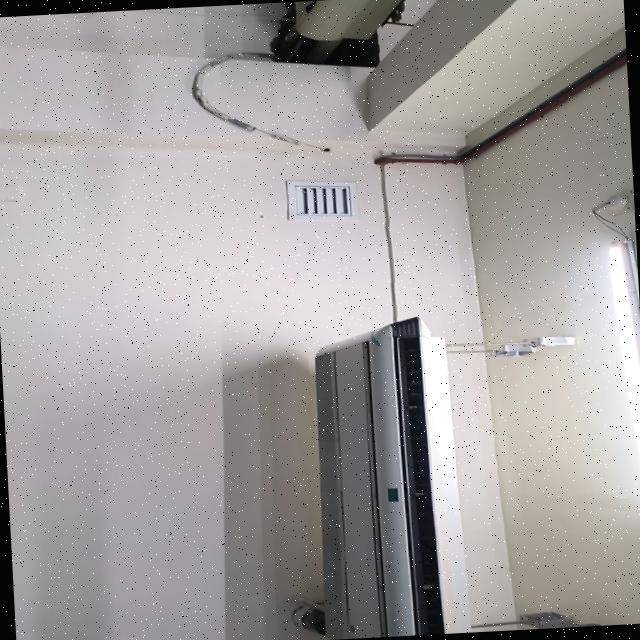Ac: (316, 317, 470, 640)
Light: (609, 238, 640, 462)
